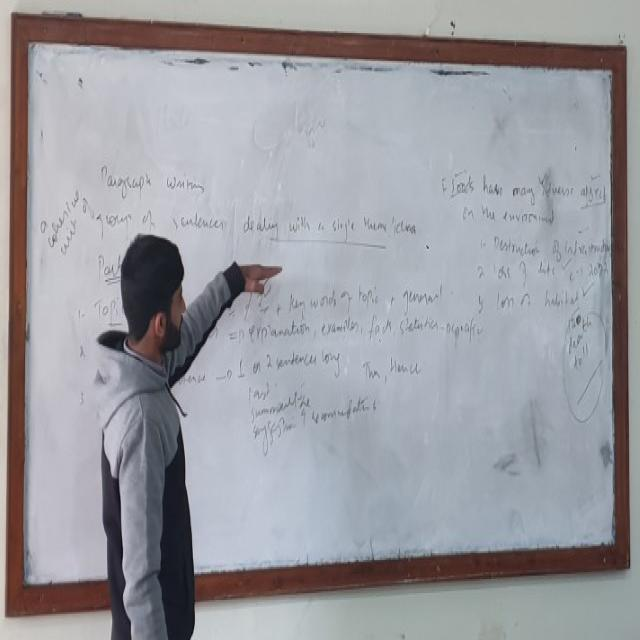Instructor: (90, 198, 206, 640)
White-board: (16, 31, 625, 607)
